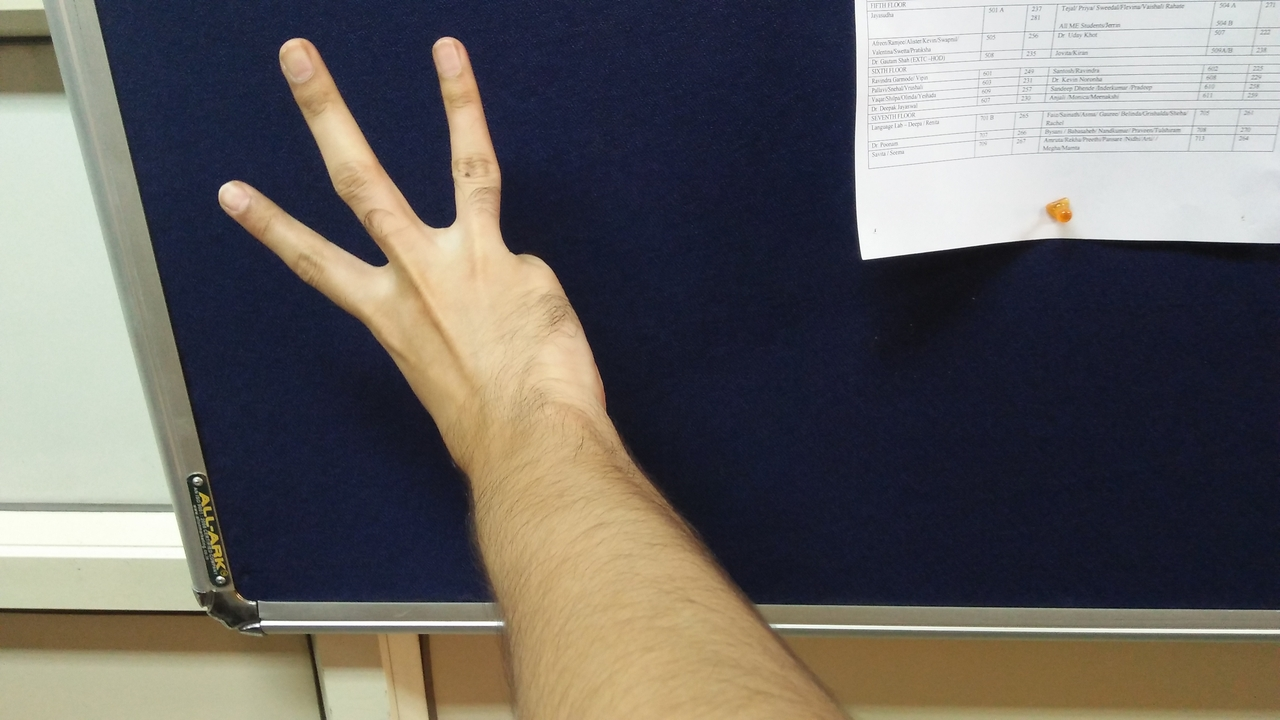fingertip: (200, 168, 272, 226), (264, 28, 326, 82), (420, 28, 480, 78)
